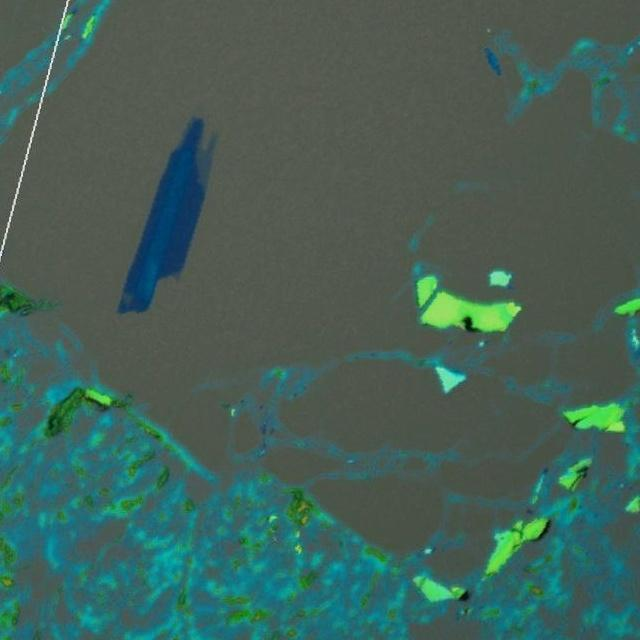monolayer-eWW4: (194, 130, 220, 186)
